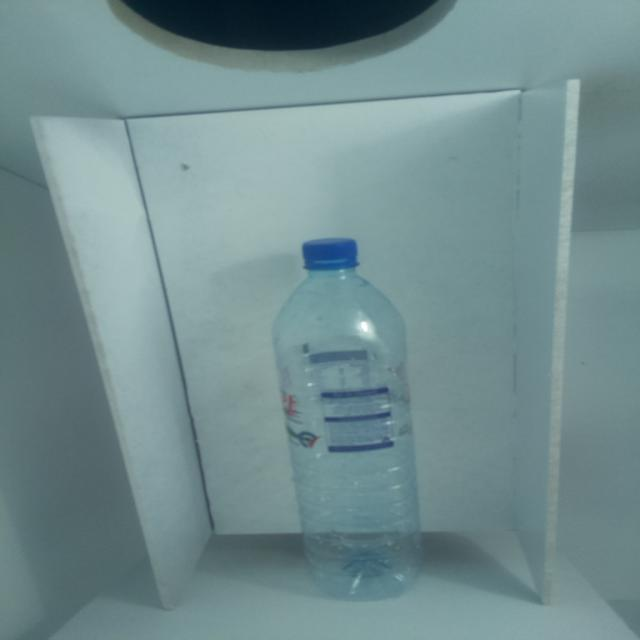bottle: (273, 230, 457, 602)
cap: (294, 230, 363, 276)
